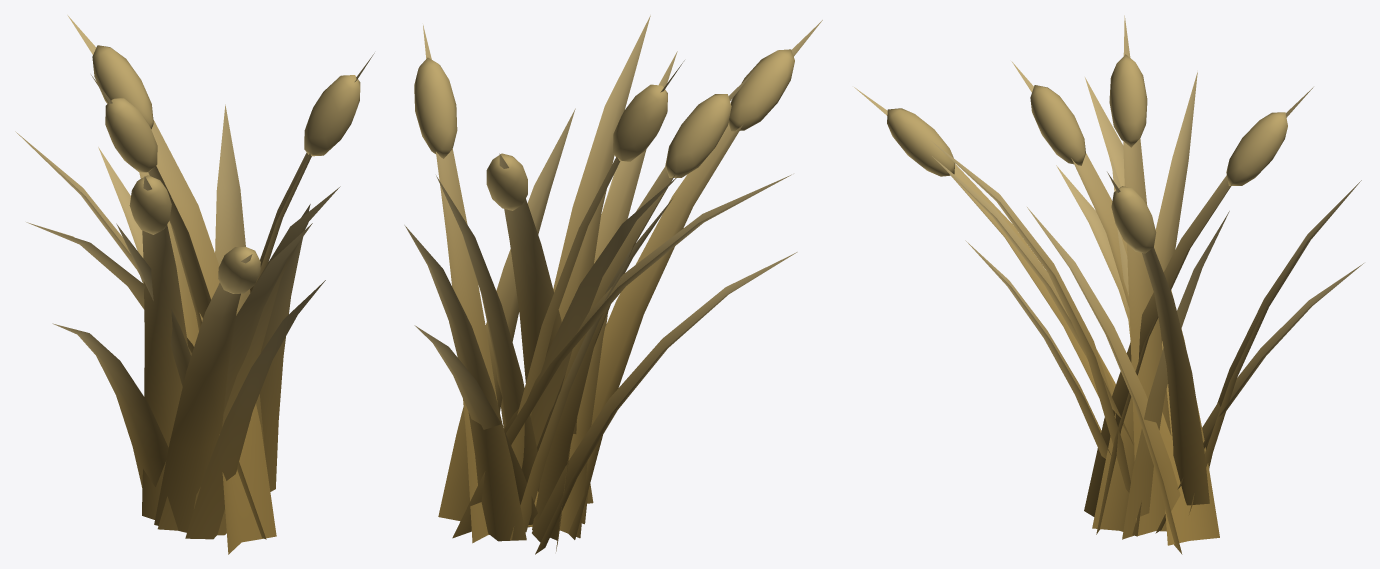
The model's file is decor_touffe_automne_1.glb.
The picture shows the model from 3 angles, left to right: view 1: azimuth 30°, elevation 25°; view 2: azimuth 150°, elevation 25°; view 3: azimuth 270°, elevation 25°; orthographic projection. The views are drawn at different scales.
Visible parts, largest first — view 1: herbe; view 2: herbe; view 3: herbe.
Part boxes in pixels (box(x1,y1,x2,y2)): herbe: box(15, 15, 374, 554); herbe: box(404, 15, 822, 554); herbe: box(854, 15, 1363, 554).
Bounding box in the file's own units: 0.1291 × 0.1685 × 0.1752.
